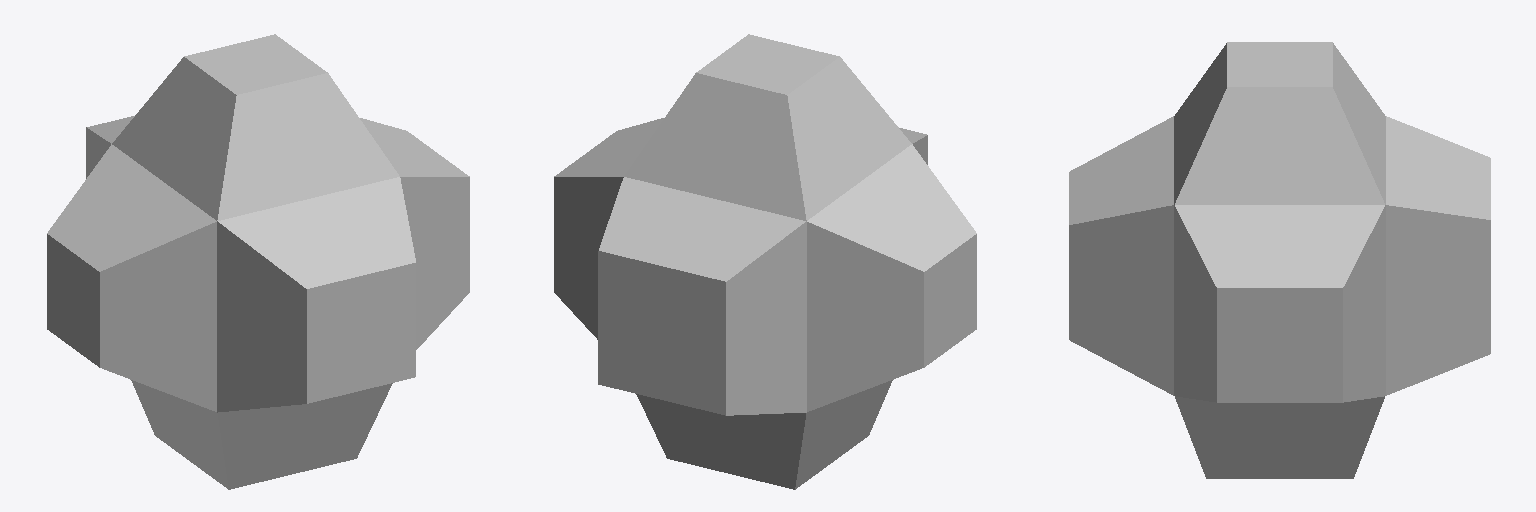
Rendered from figure_triangulated.obj.
3 views of the same model, side by side, from view 1: azimuth 30°, elevation 25°; view 2: azimuth 150°, elevation 25°; view 3: azimuth 270°, elevation 25° (orthographic).
Bounding box in the file's own units: 4 × 4 × 4.